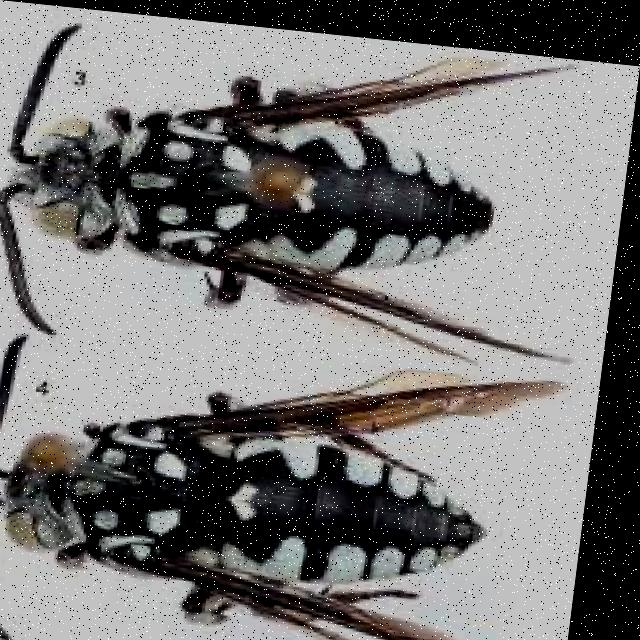Thyreus: (0, 14, 556, 351), (0, 315, 576, 640)
